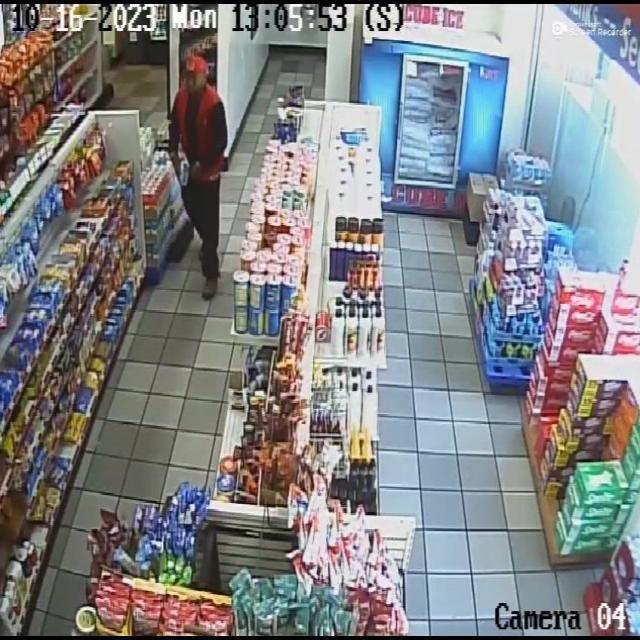Normal: (169, 27, 236, 289)
